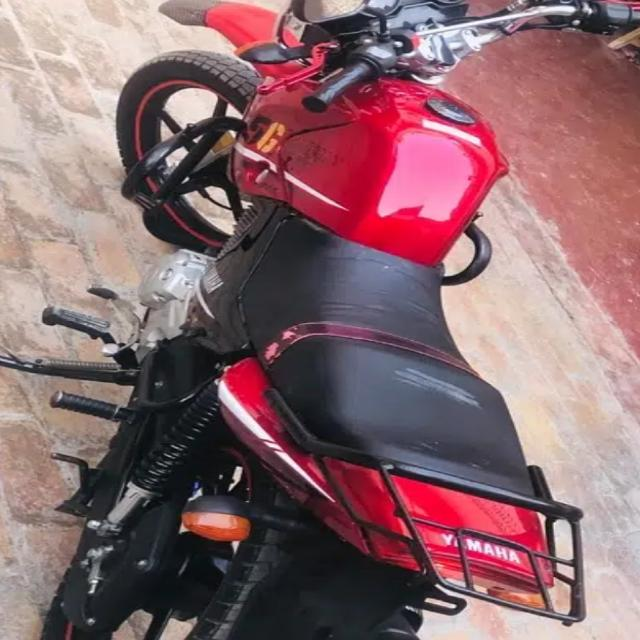Bike: (82, 0, 555, 640)
